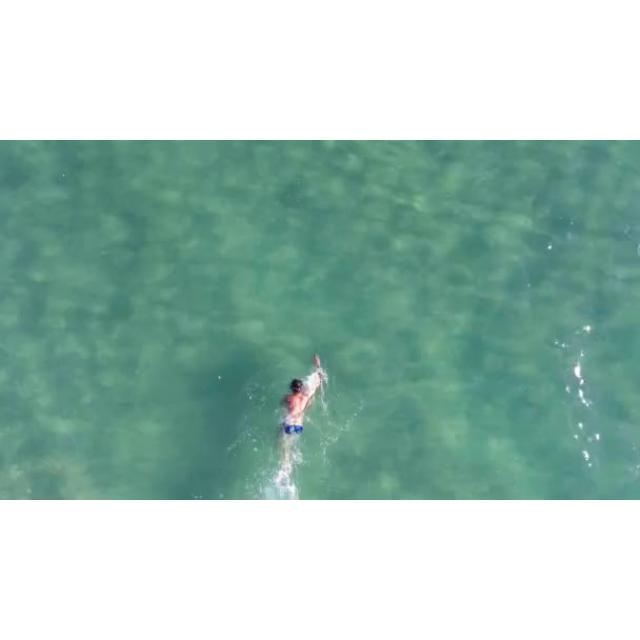human: (278, 355, 326, 487)
